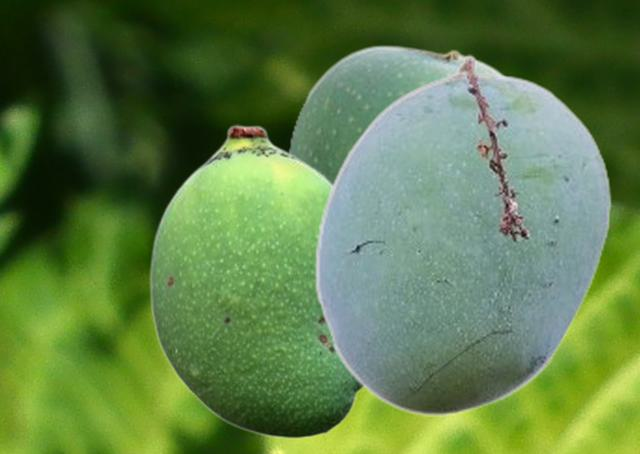green_mango: (314, 54, 611, 415), (287, 44, 508, 409), (149, 124, 363, 439)
